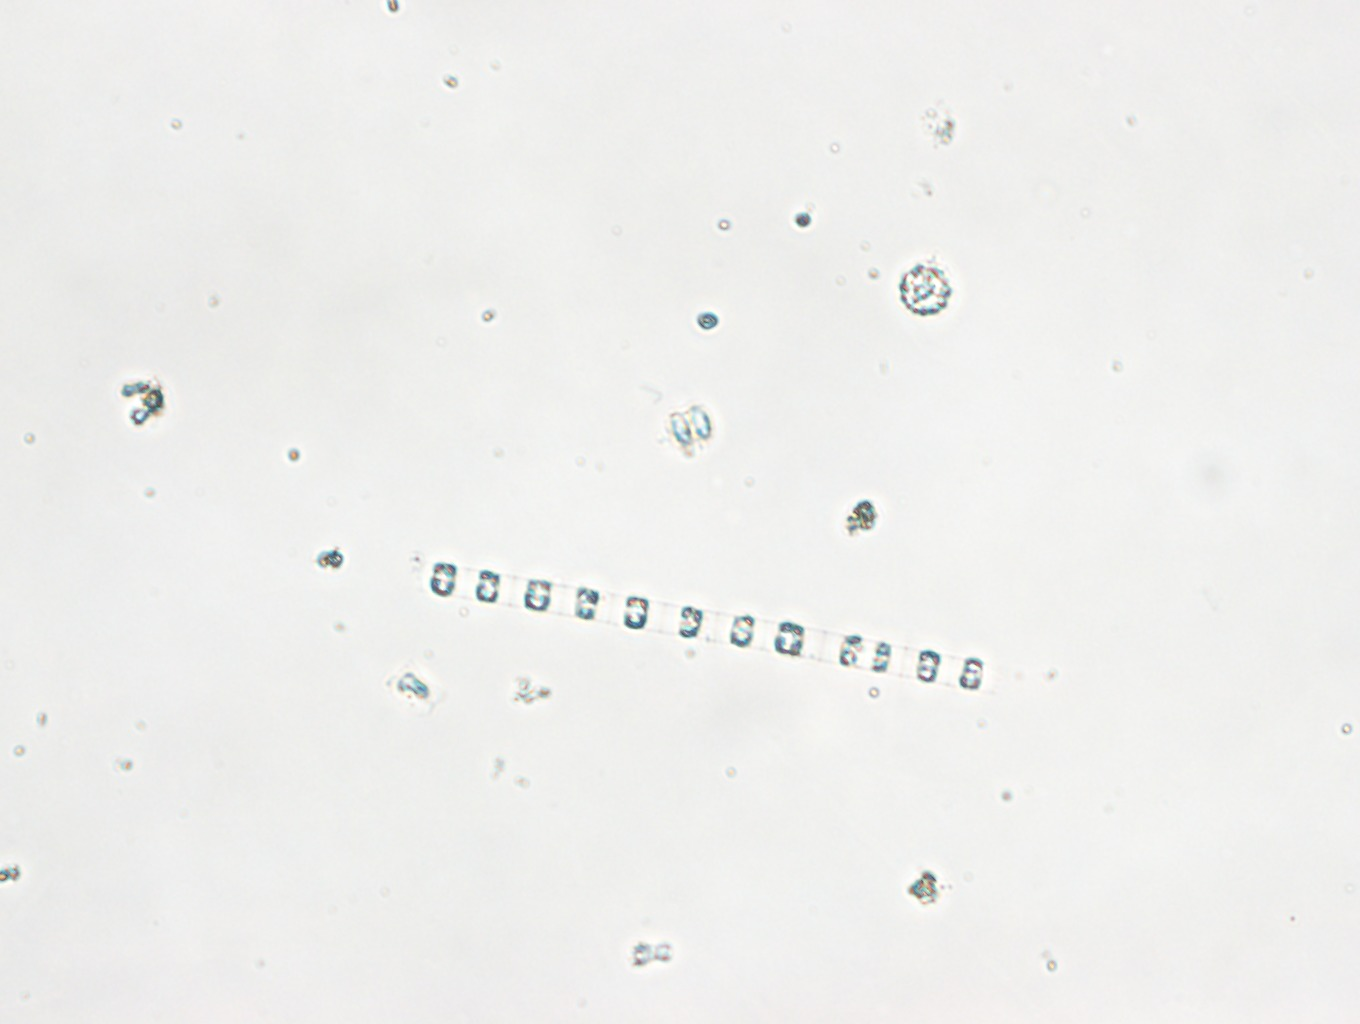skeletonema: (426, 560, 997, 696)
